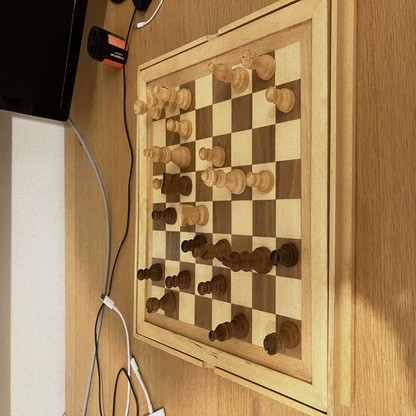bishop_black: (209, 314, 248, 340), (193, 240, 230, 259)
bishop_white: (210, 64, 249, 92), (154, 87, 191, 110)
king_black: (222, 248, 272, 272)
king_white: (143, 145, 191, 169)
knight_black: (161, 174, 192, 195)
knight_white: (147, 87, 176, 112), (178, 205, 209, 227)
pawn_black: (182, 234, 207, 252), (152, 208, 176, 225)
pawn_white: (267, 87, 296, 113), (271, 242, 299, 267), (245, 171, 275, 194), (198, 274, 226, 296), (166, 118, 192, 139), (199, 147, 226, 167), (166, 271, 191, 291), (138, 264, 162, 282)
queen_white: (201, 169, 246, 194)
rock_black: (264, 322, 300, 355), (146, 292, 176, 314)
rock_white: (242, 50, 276, 80), (134, 102, 162, 120)
